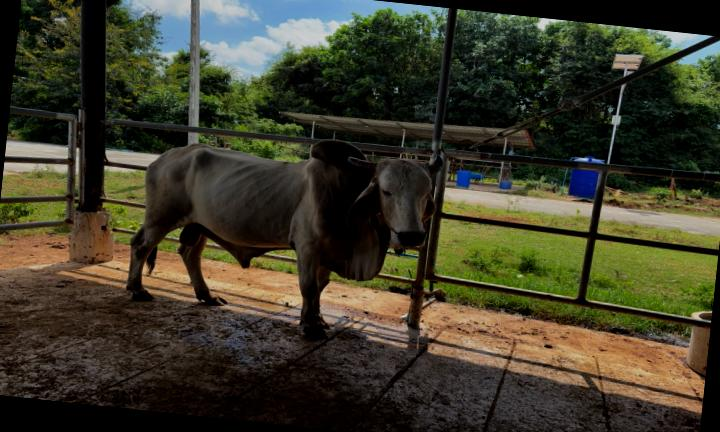Brahman: (127, 140, 441, 338)
